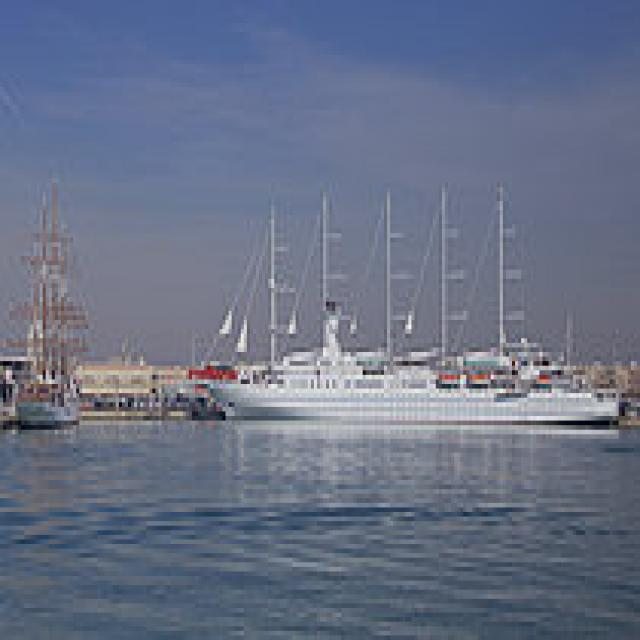Ship: (184, 307, 635, 440)
